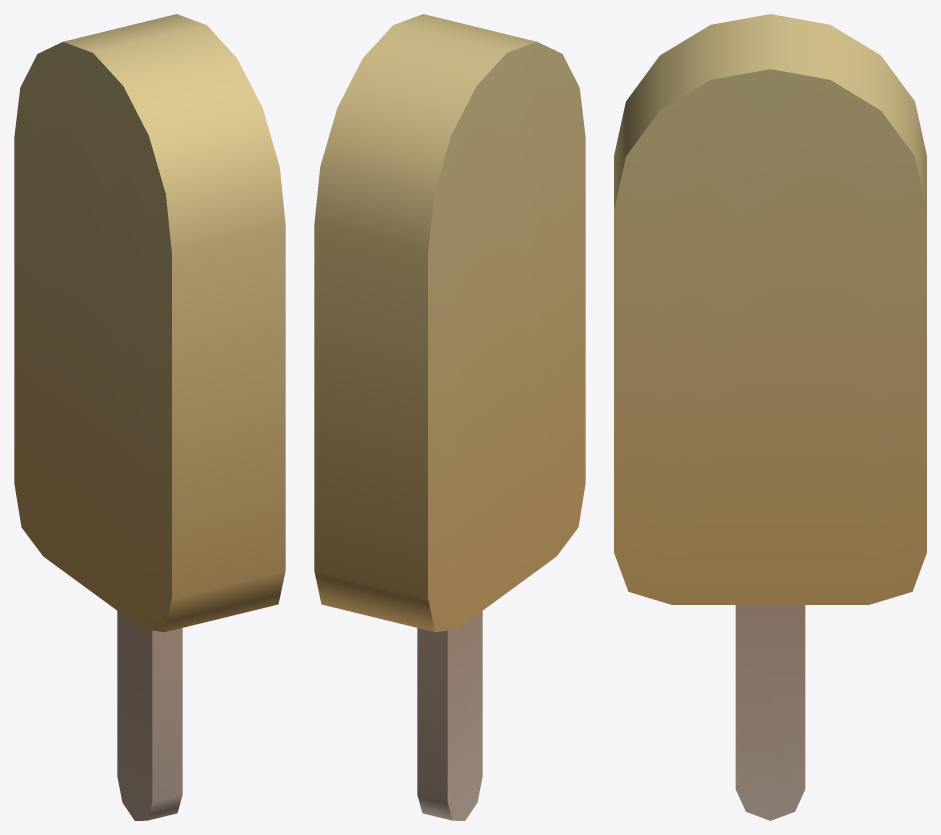
The model's file is popsicle.glb.
3 views of the same model, side by side, from view 1: azimuth 30°, elevation 25°; view 2: azimuth 150°, elevation 25°; view 3: azimuth 270°, elevation 25° (orthographic).
Visible parts, largest first — view 1: popsicle; view 2: popsicle; view 3: popsicle.
Boxes of the visible parts, x1=… form: popsicle: x1=14, y1=14, x2=285, y2=820; popsicle: x1=314, y1=14, x2=585, y2=820; popsicle: x1=614, y1=14, x2=926, y2=820.
Size of the model in its own units: 0.075 by 0.49 by 0.18.
